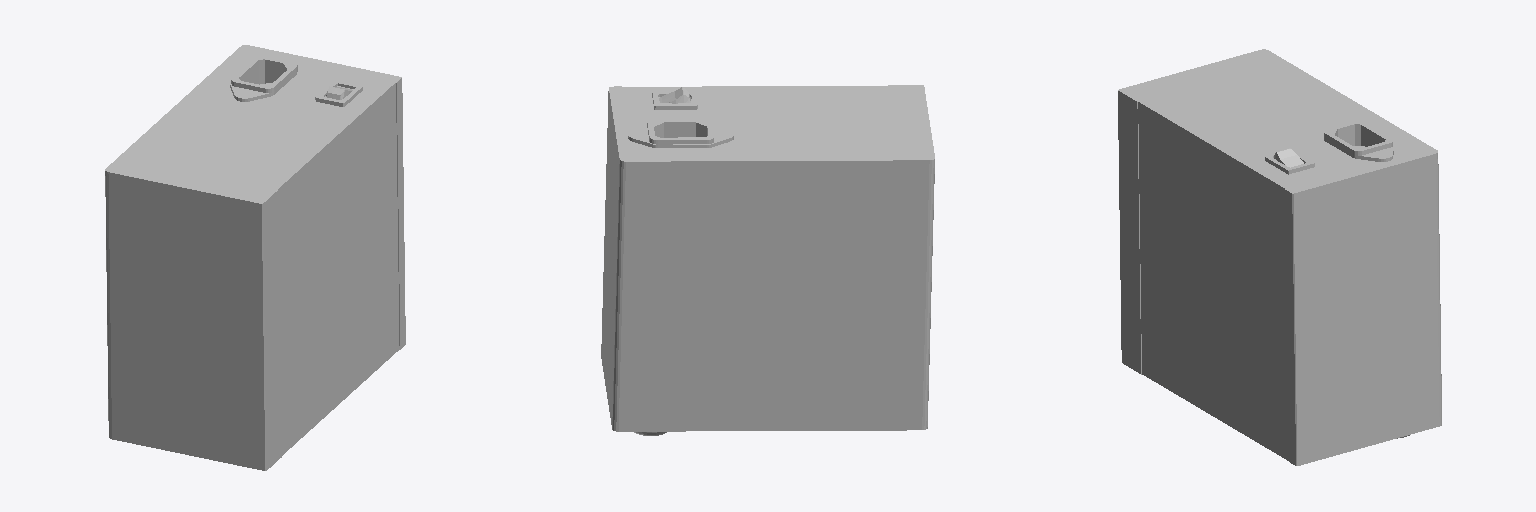
Rendered from powersupply.obj.
The picture shows the model from 3 angles: view 1: azimuth 30°, elevation 25°; view 2: azimuth 150°, elevation 25°; view 3: azimuth 270°, elevation 25°; orthographic projection.
Bounding box in the file's own units: 4.62 × 4.09 × 4.11.